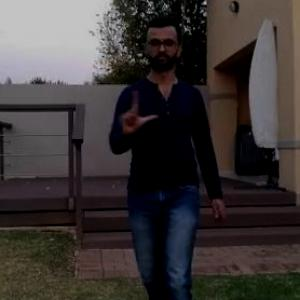land_hand: (112, 81, 163, 138)
